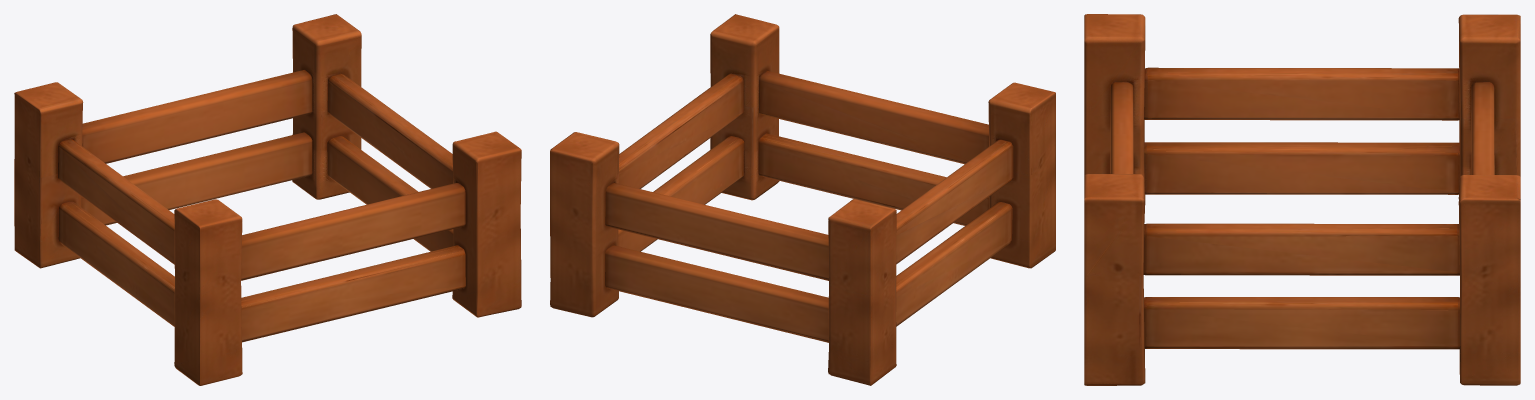
The model's file is s2_r4c5_wooden_fence_segment.glb.
3 renders of one model, left to right at view 1: azimuth 30°, elevation 25°; view 2: azimuth 150°, elevation 25°; view 3: azimuth 270°, elevation 25°, orthographic. The views are drawn at different scales.
Size of the model in its own units: 1 by 0.4775 by 1.
Materials: 1 (1 with a texture image).
